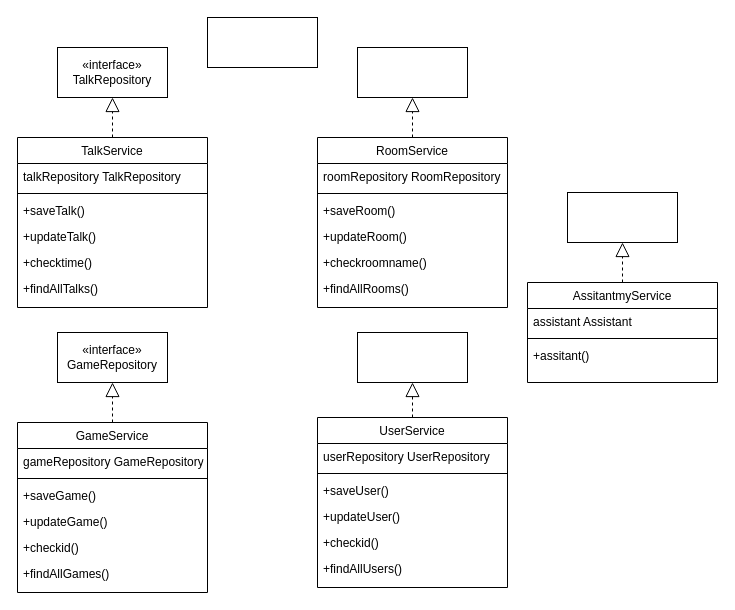
The diagram is 735 pixels wide and 610 high, and some of its shapes have lost their labels. The centre of each missing label's shape, as x and y in pixels:
"modelService" belongs at (262,42).
"«interface» Assistant" belongs at (622,217).
"«interface» RoomRepository" belongs at (412,72).
"«interface» UserRepository" belongs at (412,357).
